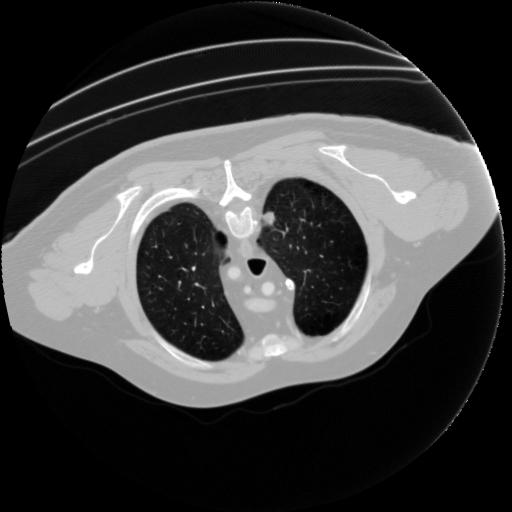nodule: (260, 207, 281, 228)
